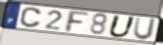2: (44, 10, 64, 31)
8: (89, 13, 109, 37)
C: (19, 6, 43, 29)
F: (65, 10, 91, 34)
U: (107, 14, 138, 39), (132, 16, 158, 42)
